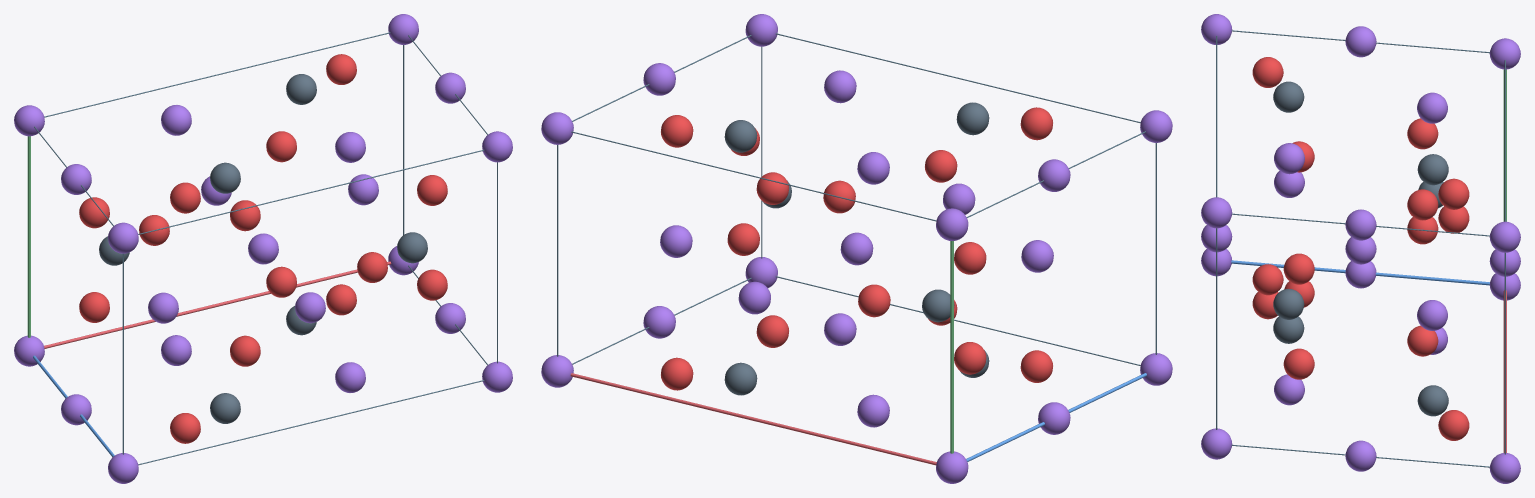
File: chat-natrite.glb
The picture shows the model from 3 angles, left to right: view 1: azimuth 30°, elevation 25°; view 2: azimuth 150°, elevation 25°; view 3: azimuth 270°, elevation 25°; orthographic projection. The views are drawn at different scales.
Parts seen in each view (by area): view 1: O1 · O · 1 (×8), Na1 · Na · 1 (×8), Ô mạng và các trục a, b, c, Na3 · Na · 1 (×6), O2 · O · 1 (×6), Na2 · Na · 1 (×5), C · C · 1 (×4); view 2: Na1 · Na · 1 (×10), Ô mạng và các trục a, b, c, Na3 · Na · 1 (×6), O2 · O · 1 (×6), O1 · O · 1 (×6), Na2 · Na · 1 (×5), C · C · 1 (×4); view 3: Na1 · Na · 1 (×10), O1 · O · 1 (×7), O2 · O · 1 (×6), Ô mạng và các trục a, b, c, C · C · 1 (×5), Na3 · Na · 1 (×5), Na2 · Na · 1 (×5).
Boxes of the visible parts, x1,y1,x2,y2 form: O1 · O · 1 (×8): (79,131,447,366); Na1 · Na · 1 (×8): (14,14,512,483); Ô mạng và các trục a, b, c: (27,32,497,465); Na3 · Na · 1 (×6): (148,105,378,392); O2 · O · 1 (×6): (139,54,387,443); Na2 · Na · 1 (×5): (61,72,465,425); C · C · 1 (×4): (210,74,427,423); Na1 · Na · 1 (×10): (541,14,1172,483); Ô mạng và các trục a, b, c: (557,33,1156,465); Na3 · Na · 1 (×6): (660,70,1053,427); O2 · O · 1 (×6): (661,107,1052,390); O1 · O · 1 (×6): (727,150,986,374); Na2 · Na · 1 (×5): (643,63,1070,434); C · C · 1 (×4): (724,102,989,395); Na1 · Na · 1 (×10): (1201,14,1520,483); O1 · O · 1 (×7): (1283,118,1438,379); O2 · O · 1 (×6): (1252,57,1469,440); Ô mạng và các trục a, b, c: (1216,30,1506,467); C · C · 1 (×5): (1273,81,1448,416); Na3 · Na · 1 (×5): (1274,92,1447,405); Na2 · Na · 1 (×5): (1345,26,1376,471).
Size of the model in its own units: 10.73 by 5.88 by 6.57.
